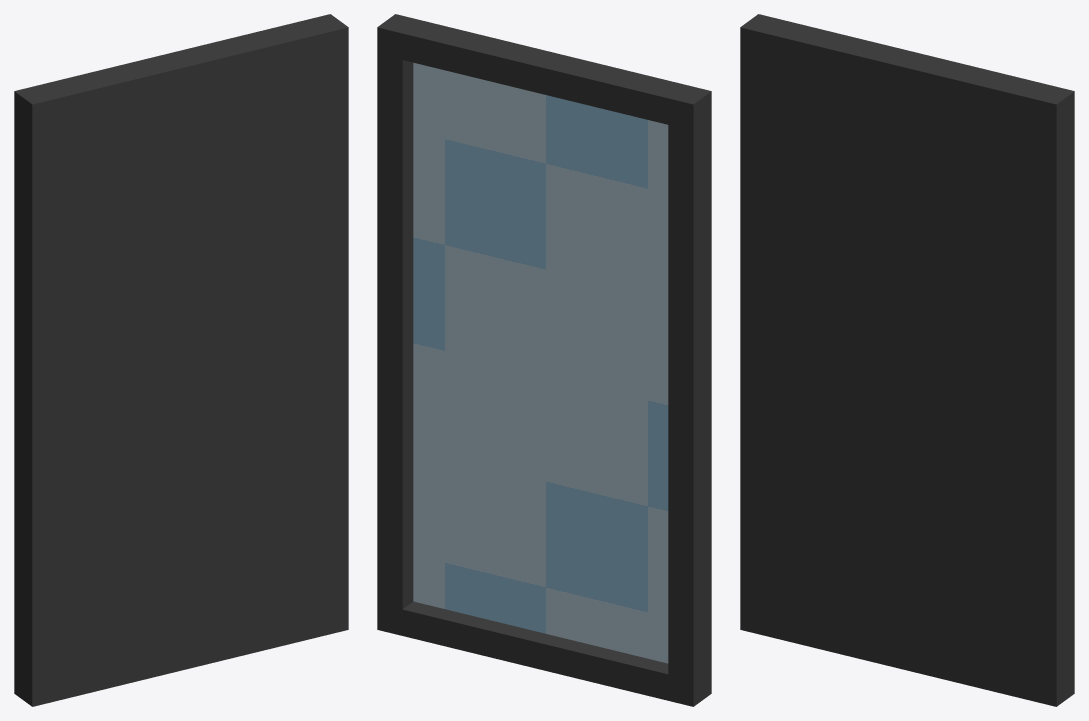
3 renders of one model, left to right at view 1: azimuth 30°, elevation 25°; view 2: azimuth 150°, elevation 25°; view 3: azimuth 330°, elevation 25°, orthographic.
Parts seen in each view (by area): view 1: cube, cube_2, cube_4; view 2: cube, cube_2, cube_1, cube_4, cube_3; view 3: cube, cube_1, cube_4.
Part boxes in pixels (bbox=[...]): cube: bbox=[25, 22, 348, 706]; cube_2: bbox=[14, 85, 49, 701]; cube_4: bbox=[40, 20, 315, 92]; cube: bbox=[388, 14, 711, 698]; cube_2: bbox=[668, 90, 704, 706]; cube_1: bbox=[377, 19, 413, 635]; cube_4: bbox=[402, 25, 678, 124]; cube_3: bbox=[402, 601, 668, 700]; cube: bbox=[740, 22, 1063, 706]; cube_1: bbox=[1039, 85, 1074, 701]; cube_4: bbox=[773, 20, 1048, 92].
Bounding box in the file's own units: 19.53 × 35.55 × 1.95.
1 material, 1 textured.
